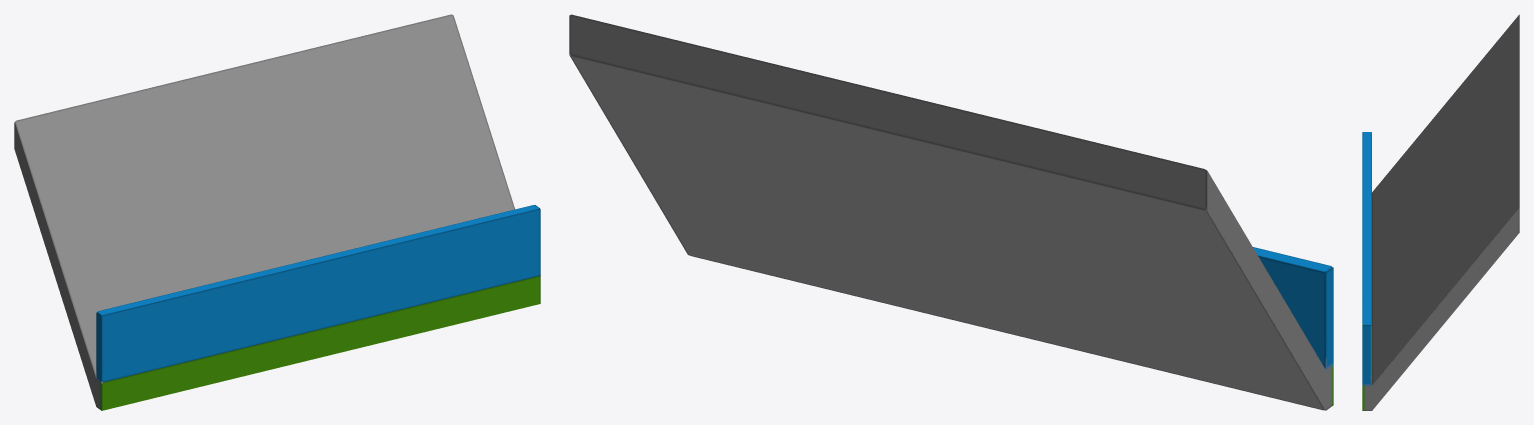
The model's file is FondoP.fbx.
3 renders of one model, left to right at view 1: azimuth 30°, elevation 25°; view 2: azimuth 150°, elevation 25°; view 3: azimuth 270°, elevation 25°, orthographic. The views are drawn at different scales.
Parts seen in each view (by area): view 1: Fondo; view 2: Fondo; view 3: Fondo.
Part boxes in pixels (x1,y1,x2,y2): Fondo: (14,14,540,410); Fondo: (569,14,1333,410); Fondo: (1362,14,1519,410).
Bounding box in the file's own units: 812 × 400 × 280.
1 material, 1 textured.
